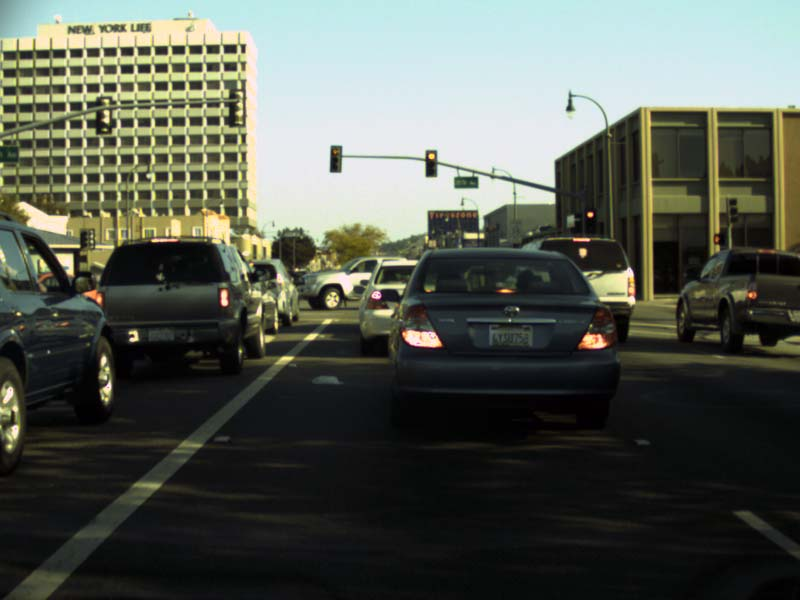Red: (330, 145, 341, 172), (425, 150, 436, 176), (585, 207, 594, 232)
